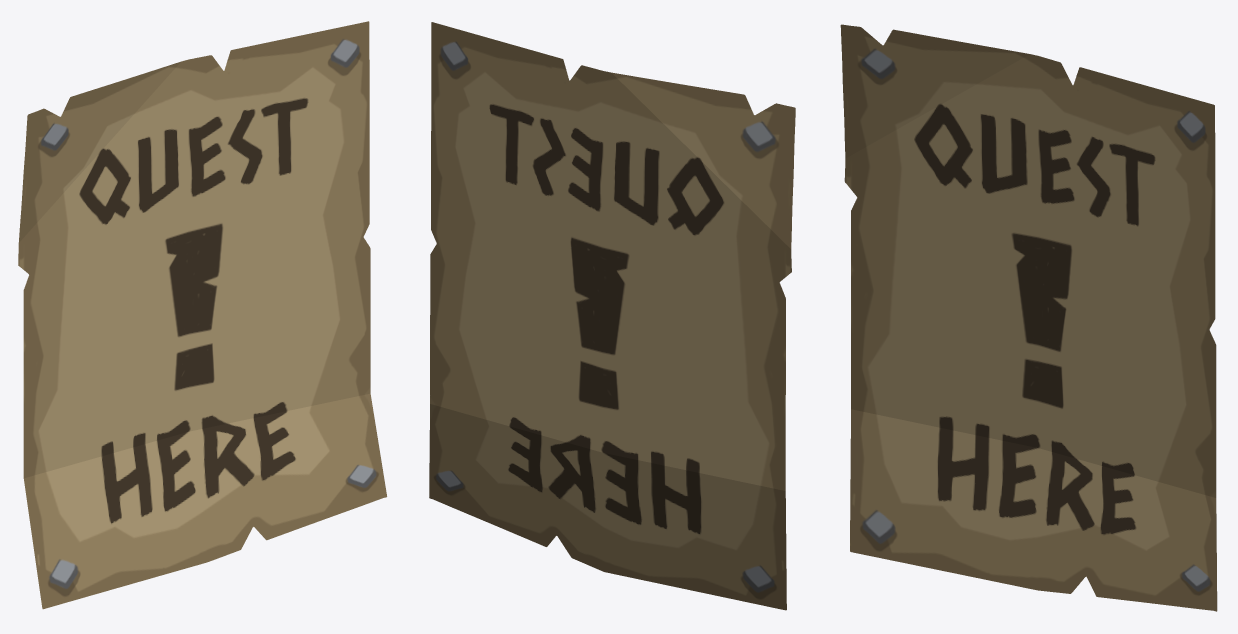
The model's file is SM_Prop_Quest_Poster_03.fbx.
3 renders of one model, left to right at view 1: azimuth 30°, elevation 25°; view 2: azimuth 150°, elevation 25°; view 3: azimuth 330°, elevation 25°, orthographic. The views are drawn at different scales.
Visible parts, largest first — view 1: SM_Prop_Quest_Poster_03; view 2: SM_Prop_Quest_Poster_03; view 3: SM_Prop_Quest_Poster_03.
Boxes of the visible parts, x1=… form: SM_Prop_Quest_Poster_03: x1=18, y1=21, x2=387, y2=609; SM_Prop_Quest_Poster_03: x1=429, y1=22, x2=795, y2=610; SM_Prop_Quest_Poster_03: x1=840, y1=24, x2=1217, y2=611.
Bounding box in the file's own units: 36.62 × 48.16 × 2.95.
1 material, 1 textured.
